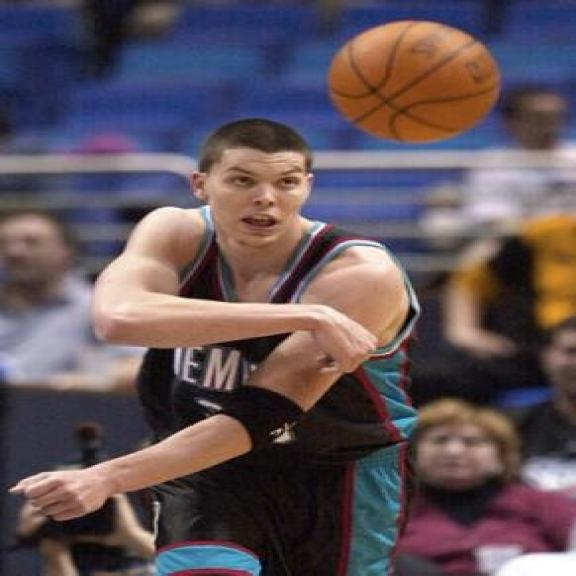face: (186, 147, 317, 250), (406, 420, 509, 488), (2, 215, 79, 296), (503, 94, 566, 150), (544, 323, 576, 402)
